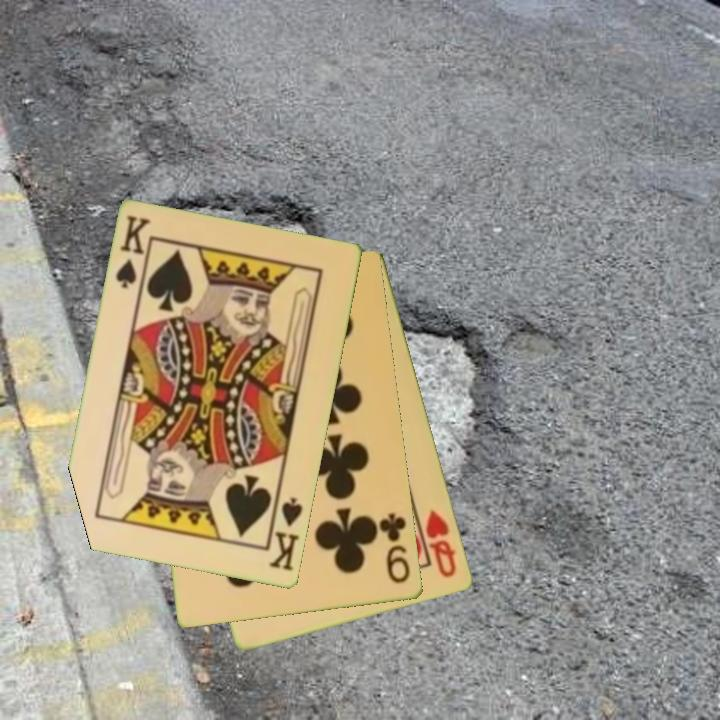9c: (376, 509, 413, 587)
Ks: (112, 212, 154, 292), (266, 494, 306, 574)
Qh: (422, 505, 460, 581)
